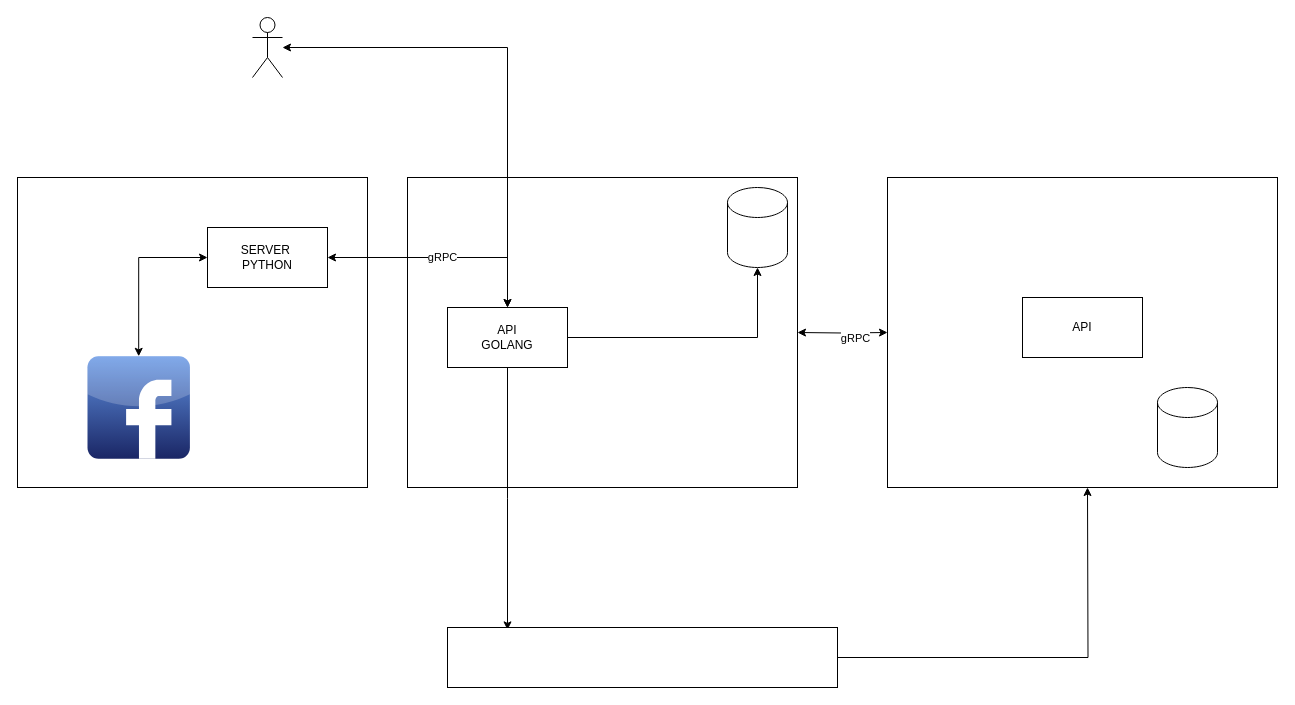
Image size: 1295x705. Some labels were removed from this diagram. The shapes that lost their labels are listed below. From the top down, each one's box as (x1, y1, x2, y2) in pixels, then its label:
(252, 16, 282, 78): Actor
(446, 626, 838, 688): ETL
